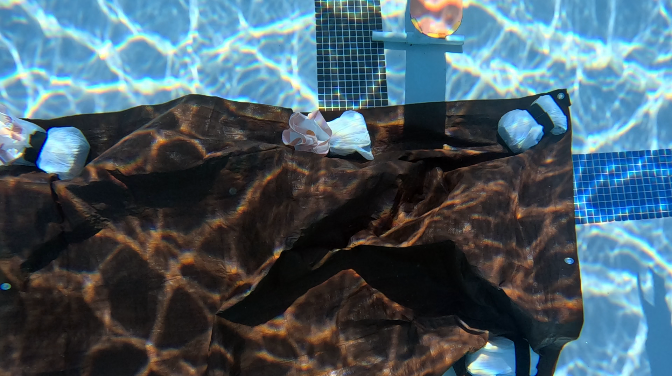pathmarker: (410, 0, 461, 36)
sandbag: (0, 88, 585, 374)
